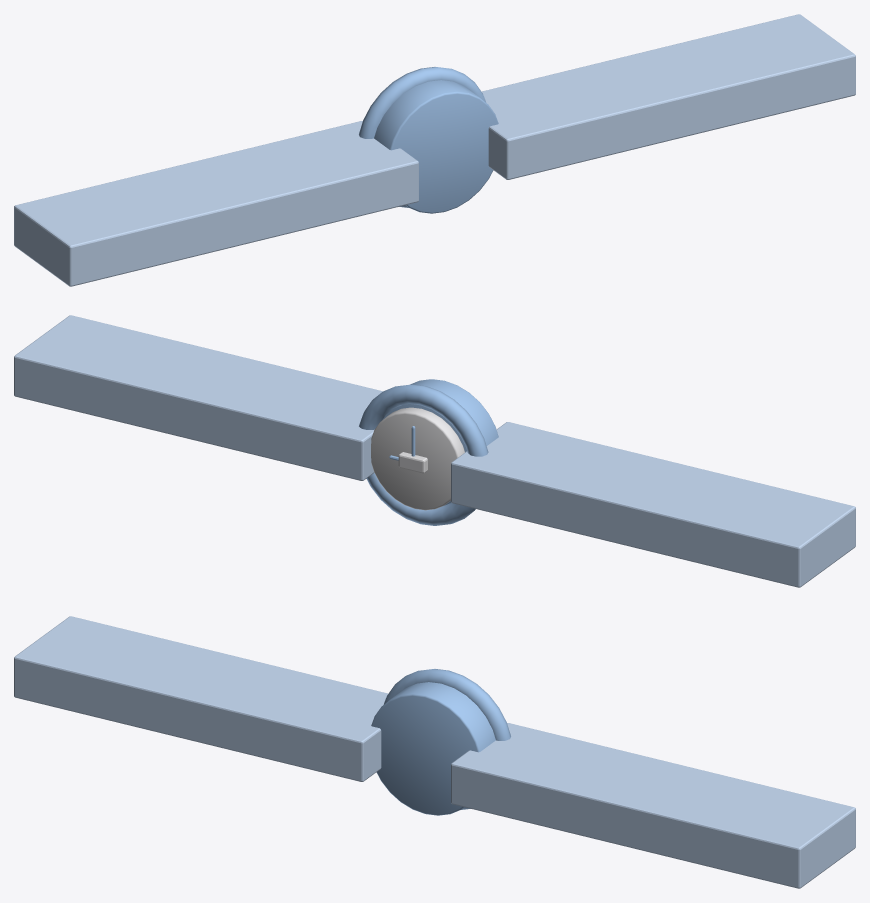
Rendered from VM-ACC-EXT97.glb.
3 views of the same model, one above another, from view 1: azimuth 30°, elevation 25°; view 2: azimuth 150°, elevation 25°; view 3: azimuth 330°, elevation 25° (orthographic).
Visible parts, largest first — view 1: Prenda Rolex Datejust; view 2: Prenda Rolex Datejust; view 3: Prenda Rolex Datejust.
Boxes of the visible parts, bbox=[...] form: Prenda Rolex Datejust: bbox=[14, 14, 855, 286]; Prenda Rolex Datejust: bbox=[14, 315, 855, 587]; Prenda Rolex Datejust: bbox=[14, 616, 855, 888].
Size of the model in its own units: 0.3659 by 0.061 by 0.0457.
